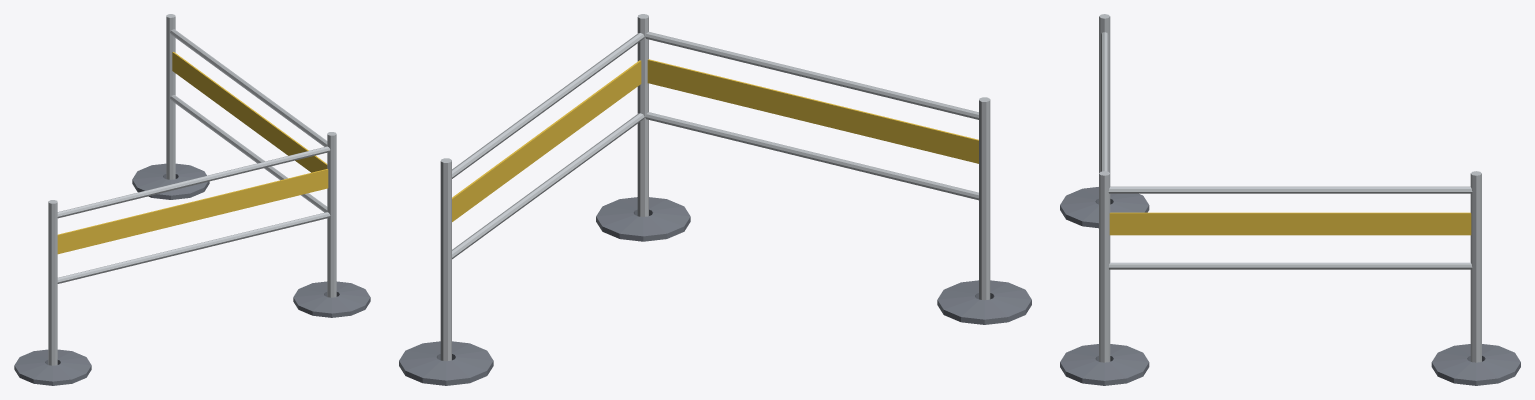
Rendered from ufo-crash-site-and-recovery-facility-cordon-fence-corn-09662fe0__17342.glb.
3 renders of one model, left to right at view 1: azimuth 30°, elevation 25°; view 2: azimuth 150°, elevation 25°; view 3: azimuth 270°, elevation 25°, orthographic. The views are drawn at different scales.
Parts seen in each view (by area): view 1: cordon-fence-corner; view 2: cordon-fence-corner; view 3: cordon-fence-corner.
Part boxes in pixels (box(x1,y1,x2,y2)): cordon-fence-corner: box(14, 14, 370, 385); cordon-fence-corner: box(399, 14, 1031, 385); cordon-fence-corner: box(1060, 14, 1520, 385).
Size of the model in its own units: 2.48 by 1.15 by 2.48.
